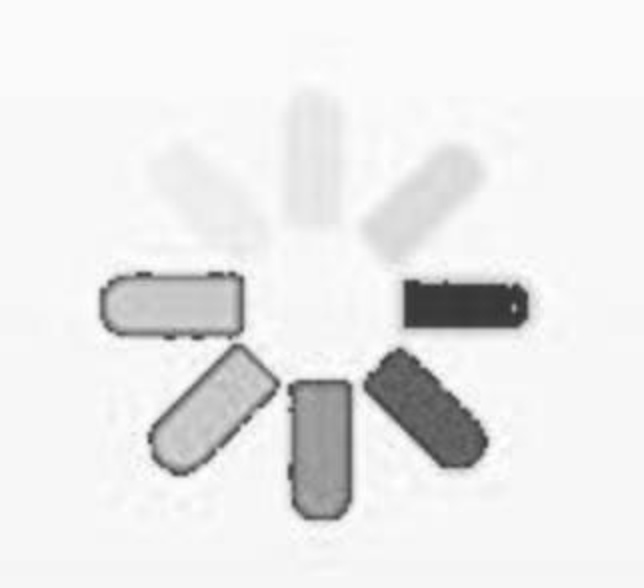ProgressBar: (1, 1, 643, 587)
